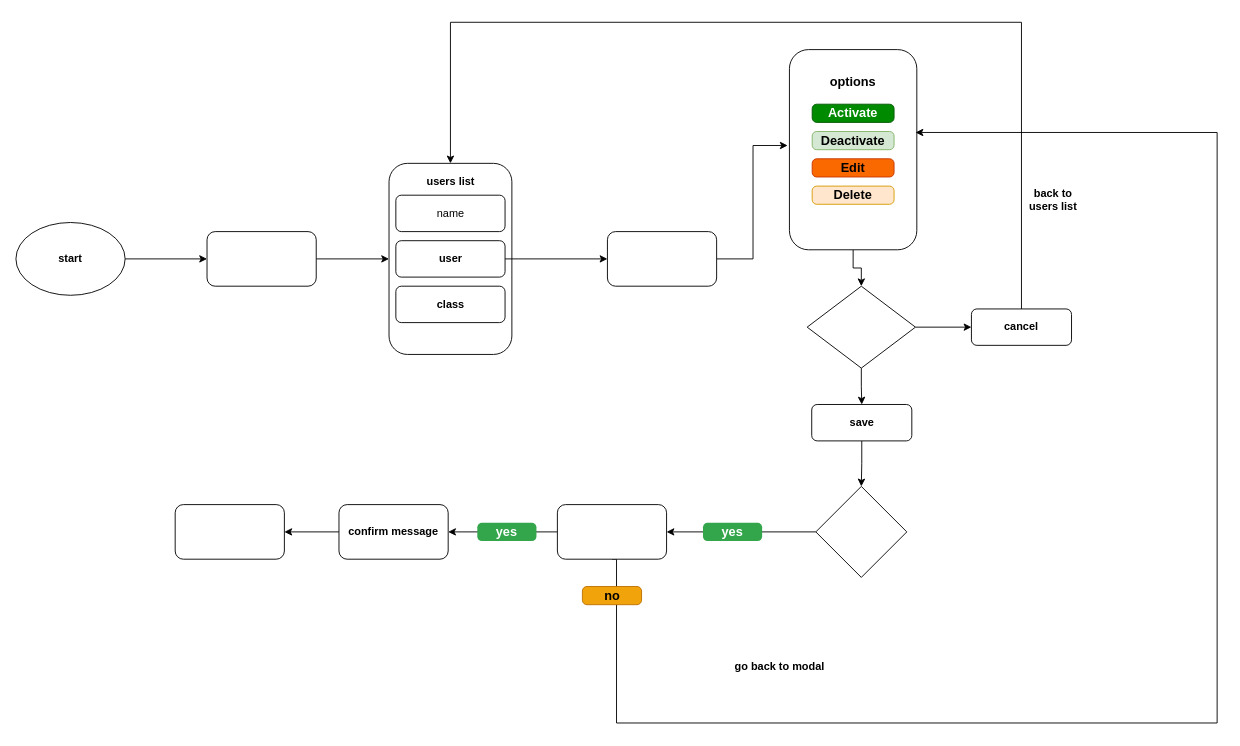
The diagram is 1240 pixels wide and 746 high, and some of its shapes have lost their labels. Each missing label, with the centre of its shape:
"action?" belongs at point 860,326.
"are u sure?" belongs at point 611,531.
"edited something?" belongs at point 861,531.
"open modal with user info and options" belongs at point 662,258.
"users list page" belongs at point 261,258.
"validate changes" belongs at point 229,531.
